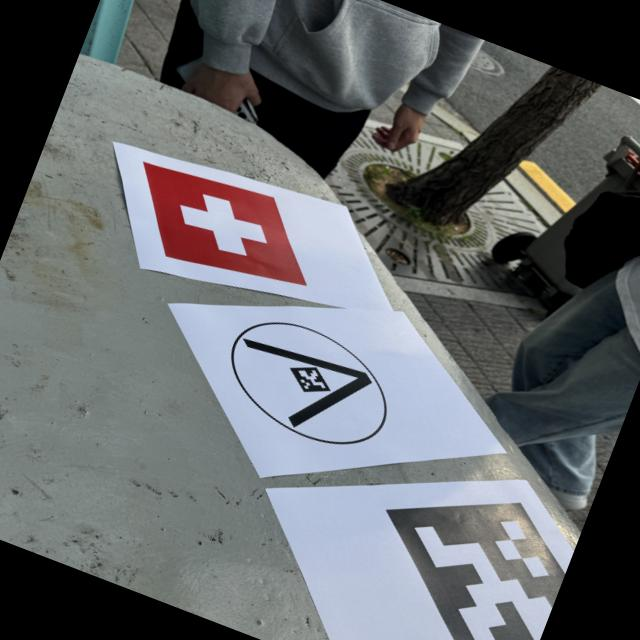ArUro mark: (386, 504, 565, 640)
rescue point: (144, 162, 306, 285)
vertiport: (202, 300, 412, 468)
